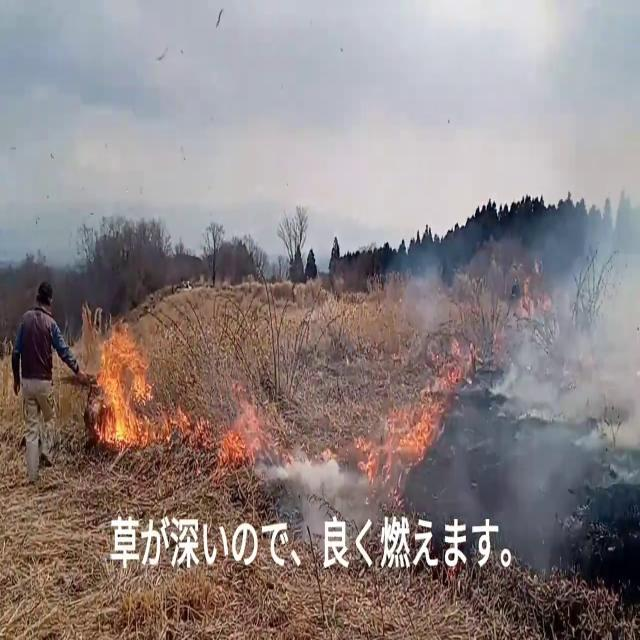Fire: (352, 371, 445, 508), (92, 318, 162, 447), (192, 385, 272, 472)
Smoke: (392, 106, 640, 572)
